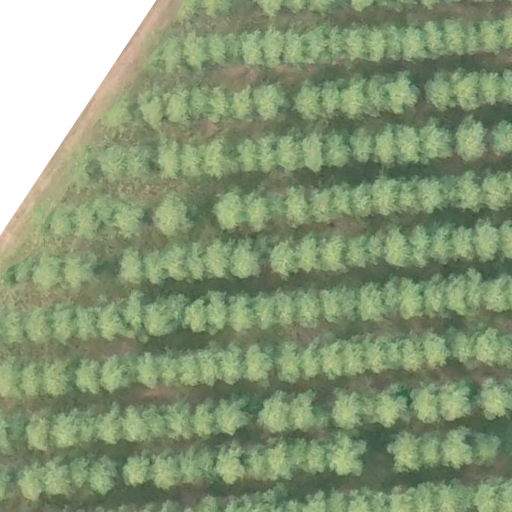eucalipto: (142, 289, 190, 338), (154, 188, 201, 238), (211, 183, 254, 236), (137, 345, 184, 392), (326, 431, 369, 480), (251, 75, 292, 126), (257, 388, 299, 436), (474, 372, 512, 425), (452, 113, 491, 164), (111, 198, 152, 243), (420, 68, 459, 115), (348, 228, 388, 273), (214, 394, 255, 436), (420, 322, 455, 371), (112, 244, 150, 289), (390, 428, 426, 475), (468, 218, 504, 265), (99, 352, 138, 395), (323, 287, 364, 326), (64, 247, 102, 289), (327, 392, 367, 430), (388, 69, 421, 115), (476, 326, 512, 367), (480, 269, 512, 315), (295, 388, 327, 434), (214, 443, 249, 485), (301, 130, 332, 177), (205, 29, 242, 68), (297, 335, 327, 383), (439, 380, 474, 421), (439, 427, 472, 470), (203, 138, 240, 176), (21, 409, 55, 450), (453, 175, 486, 217), (306, 185, 340, 224), (230, 239, 264, 278), (206, 288, 233, 337), (282, 186, 312, 230), (74, 302, 103, 347), (374, 388, 410, 424), (471, 431, 502, 472), (408, 217, 431, 271), (295, 80, 325, 121), (319, 236, 350, 275), (301, 27, 329, 70), (393, 123, 423, 163), (91, 453, 121, 493), (203, 240, 233, 280), (33, 254, 67, 289), (74, 360, 106, 397), (51, 409, 82, 447), (152, 454, 185, 489), (69, 155, 105, 187), (123, 451, 155, 487), (166, 401, 194, 442), (99, 144, 129, 182), (411, 383, 441, 421), (349, 123, 376, 165), (98, 402, 125, 444), (360, 281, 389, 320), (349, 182, 377, 222), (417, 176, 448, 212), (274, 133, 302, 172), (220, 343, 245, 386), (26, 307, 55, 344), (271, 240, 300, 277), (296, 236, 322, 277), (445, 273, 471, 314), (47, 360, 75, 398), (453, 71, 481, 109), (295, 290, 322, 328), (242, 27, 267, 68), (138, 91, 164, 130), (165, 86, 191, 125), (154, 142, 182, 178), (476, 68, 504, 104), (252, 294, 280, 330), (488, 115, 512, 157), (342, 79, 369, 116), (74, 203, 105, 235), (45, 456, 71, 494), (246, 347, 274, 382), (206, 84, 233, 120), (181, 143, 208, 179), (374, 178, 402, 212), (21, 360, 48, 395), (184, 34, 210, 70), (7, 258, 38, 288), (123, 407, 150, 441), (1, 312, 27, 347), (443, 21, 469, 56), (191, 404, 217, 439), (230, 84, 255, 120), (1, 361, 25, 398), (478, 22, 504, 56), (400, 337, 426, 371), (159, 36, 185, 70), (256, 138, 281, 173), (319, 81, 342, 119), (327, 26, 350, 64), (66, 456, 92, 488), (366, 27, 390, 61), (105, 101, 135, 128), (402, 280, 423, 318), (403, 29, 427, 61), (263, 31, 285, 63)
